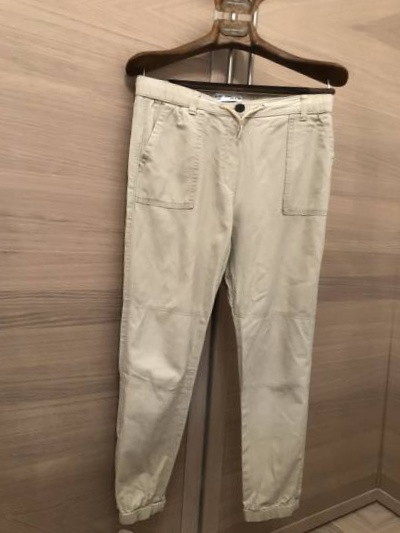Pants: (69, 37, 376, 532)
